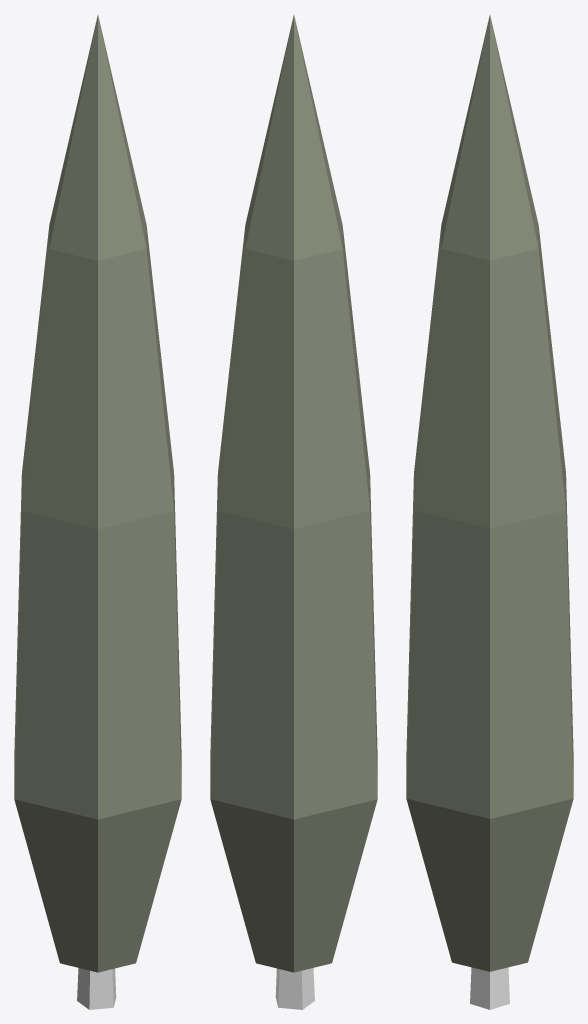
File: cypress.glb
3 views of the same model, side by side, from view 1: azimuth 30°, elevation 25°; view 2: azimuth 150°, elevation 25°; view 3: azimuth 270°, elevation 25° (orthographic).
Parts seen in each view (by area): view 1: cypress_mesh; view 2: cypress_mesh; view 3: cypress_mesh.
Boxes of the visible parts, x1,y1,x2,y2 form: cypress_mesh: [14, 15, 181, 1009]; cypress_mesh: [210, 15, 377, 1009]; cypress_mesh: [406, 15, 573, 1009].
Bounding box in the file's own units: 1.1 × 6.2 × 0.9526.
